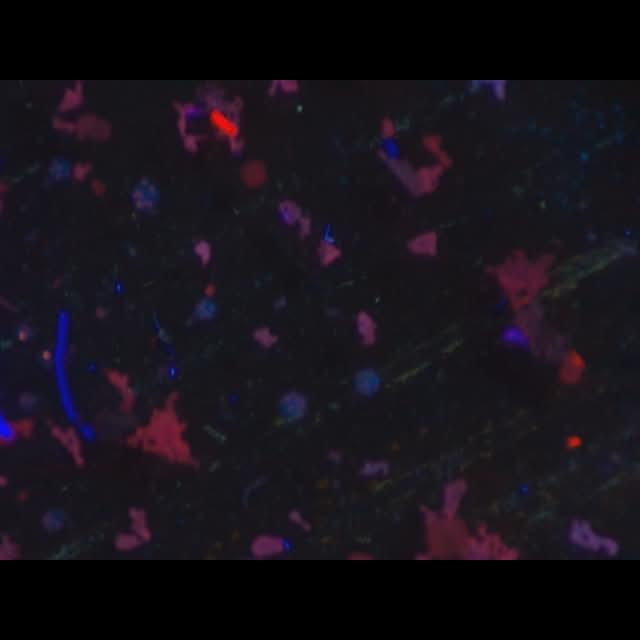Fragment: (115, 508, 152, 550)
